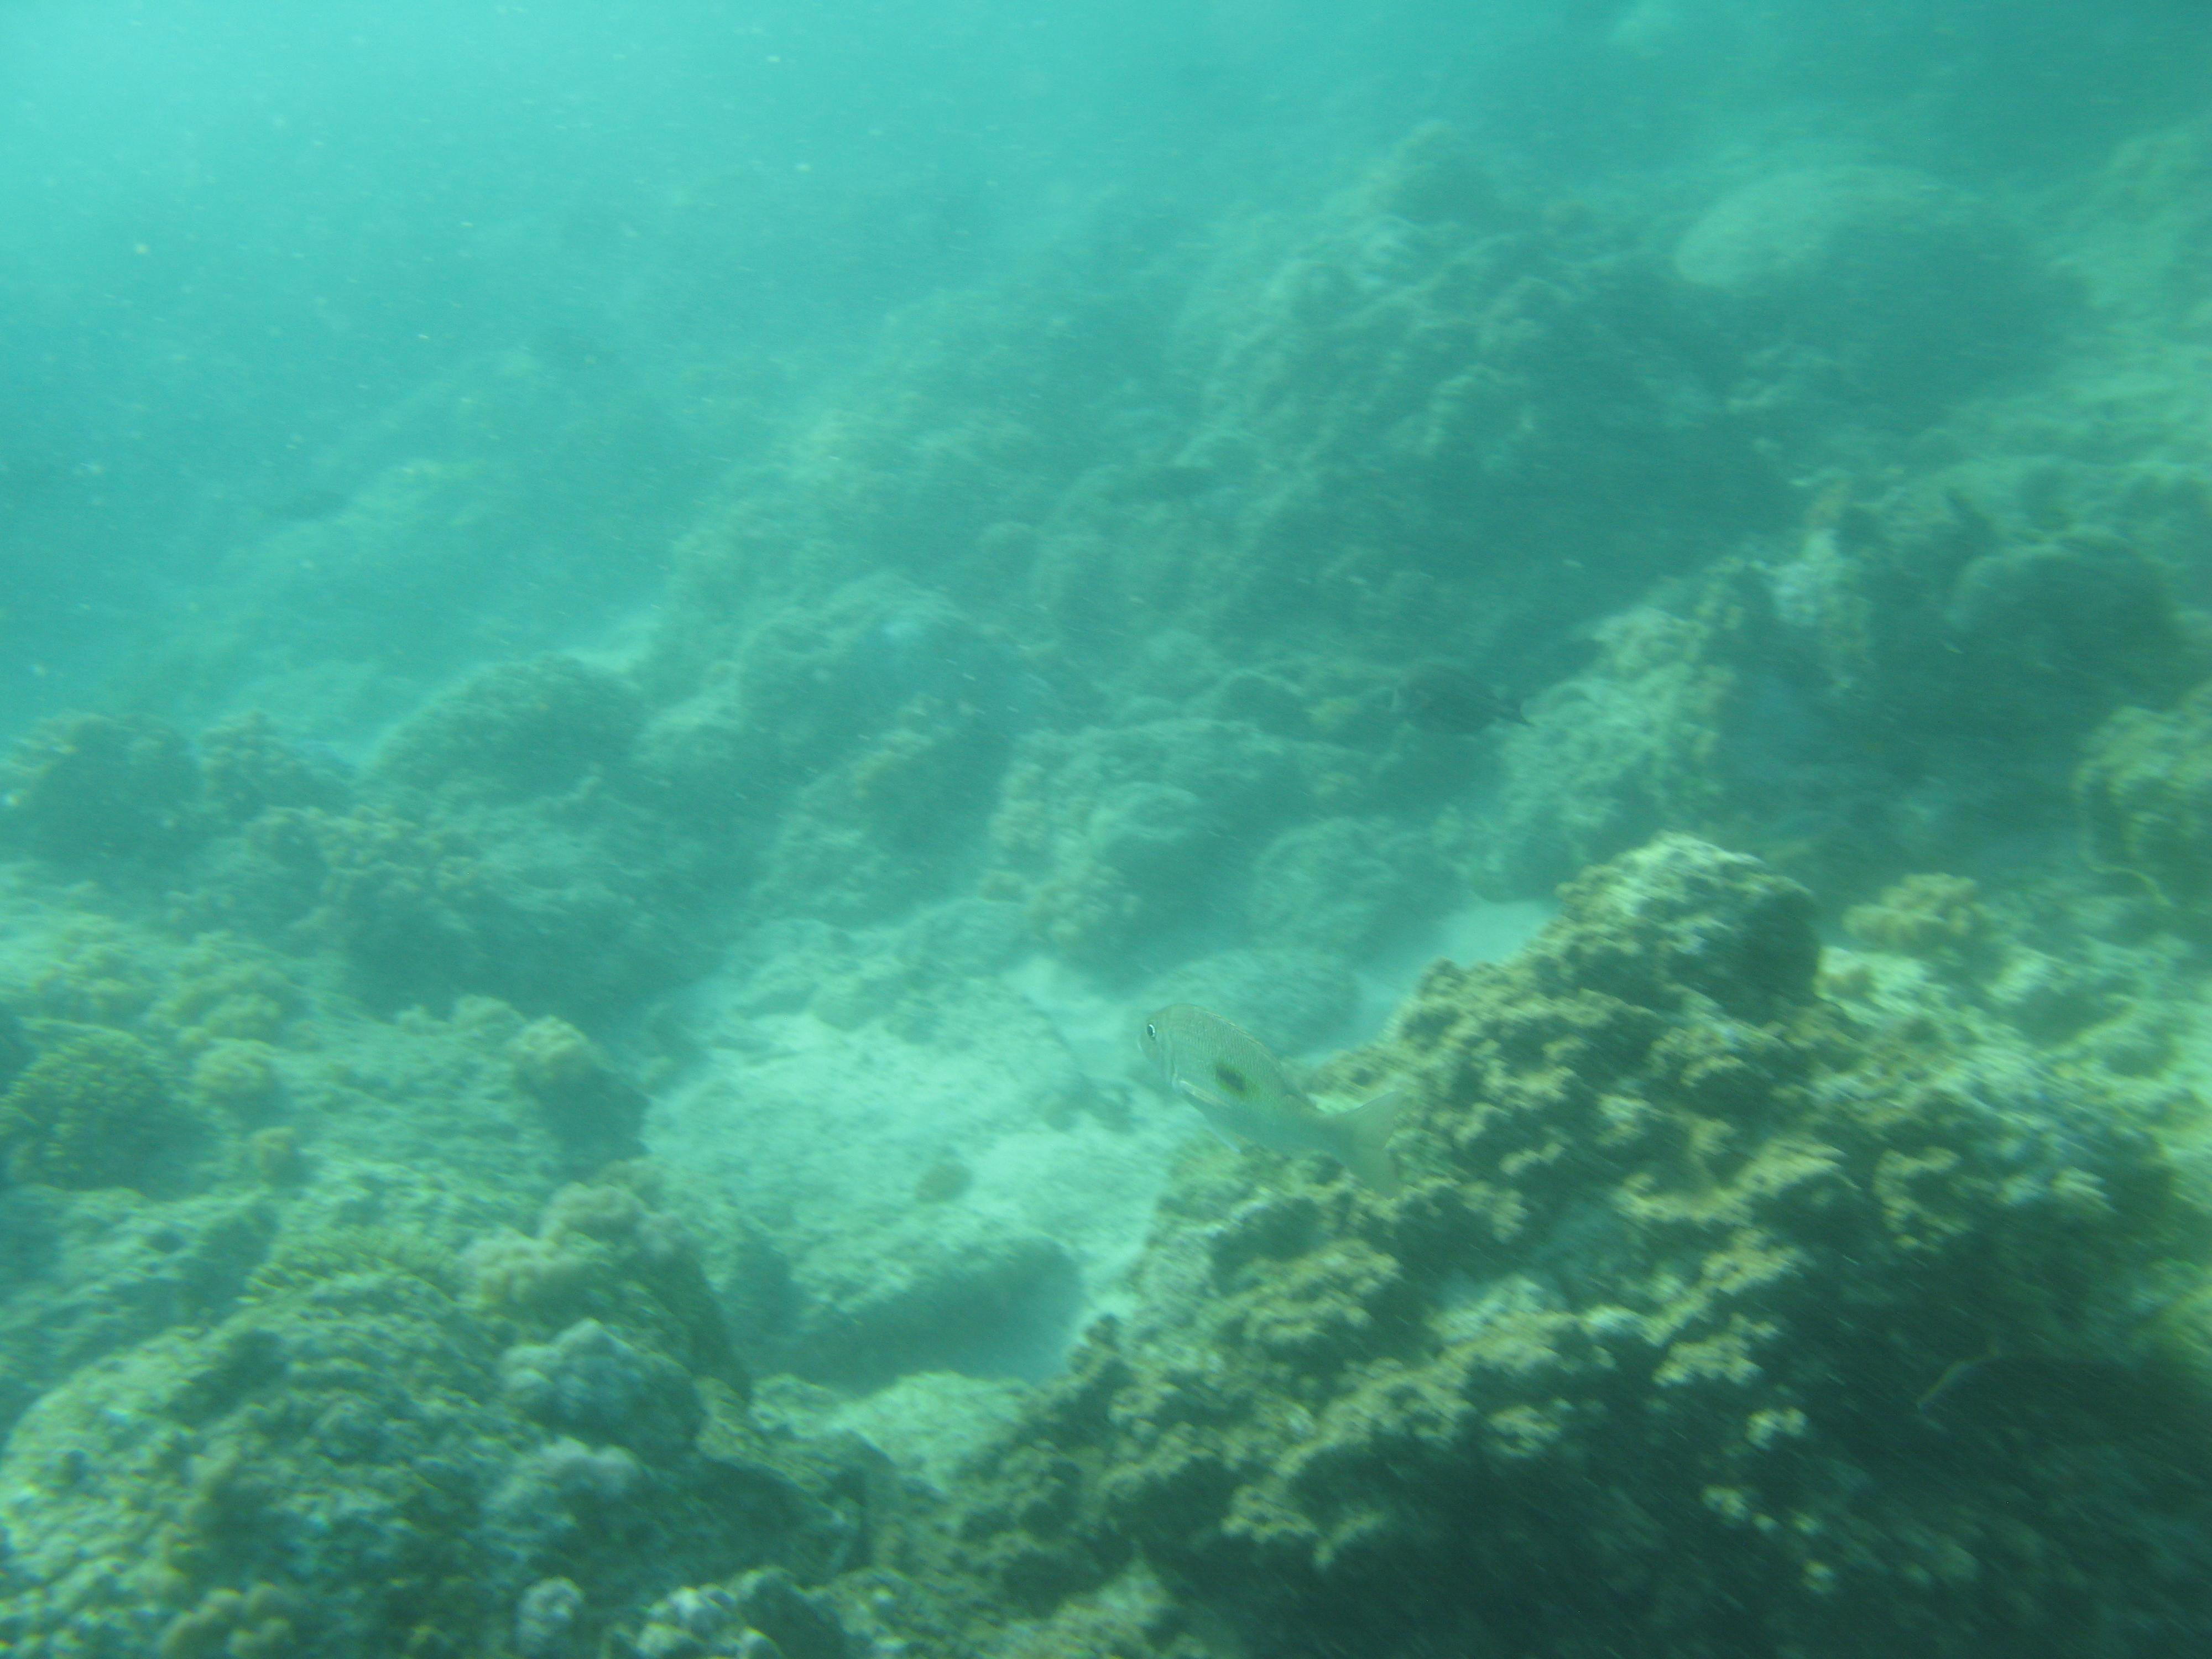Fish: (1115, 988, 1439, 1215)
